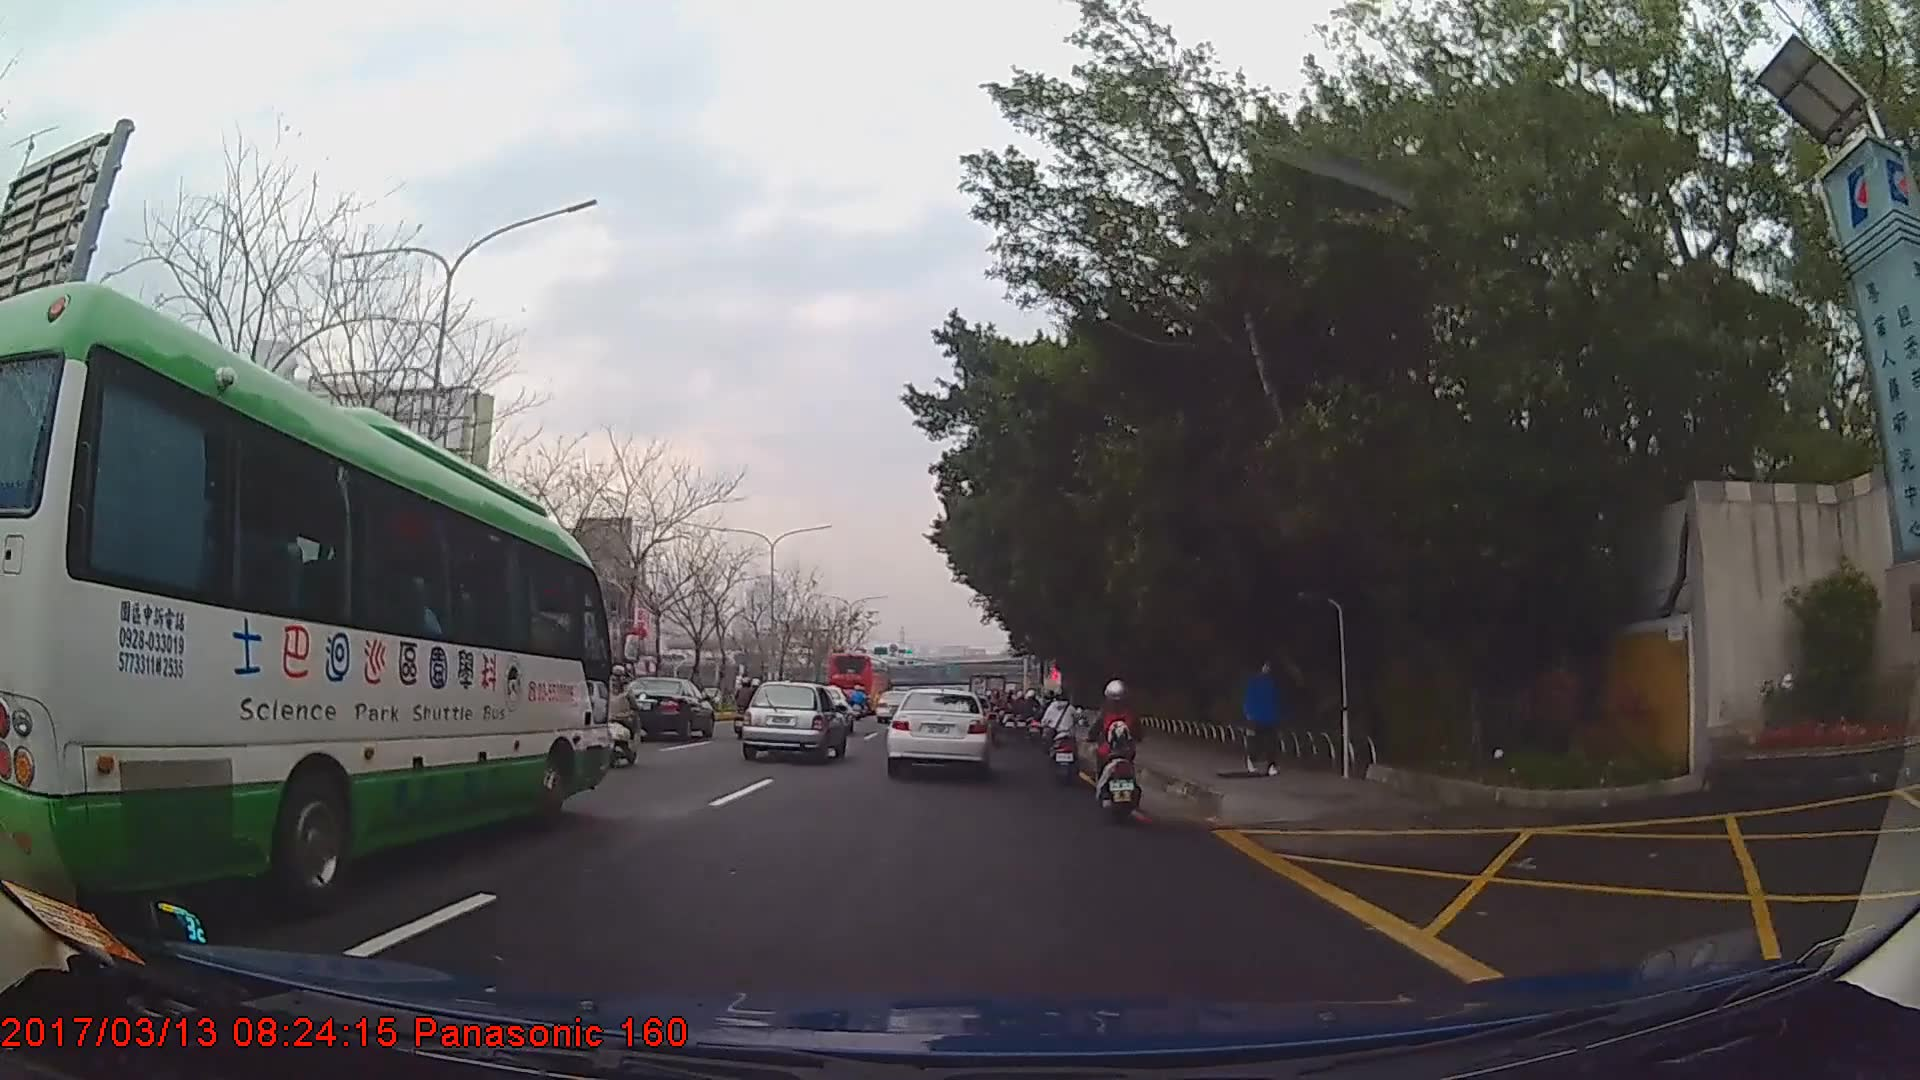pedestrian: (1244, 661, 1287, 775)
rider: (1087, 675, 1143, 815), (601, 664, 640, 768), (1040, 689, 1082, 778), (1038, 692, 1062, 760), (736, 675, 761, 726)
vehicle: (0, 277, 613, 914), (884, 685, 991, 777), (740, 682, 847, 763), (622, 672, 715, 742), (828, 650, 895, 713)
